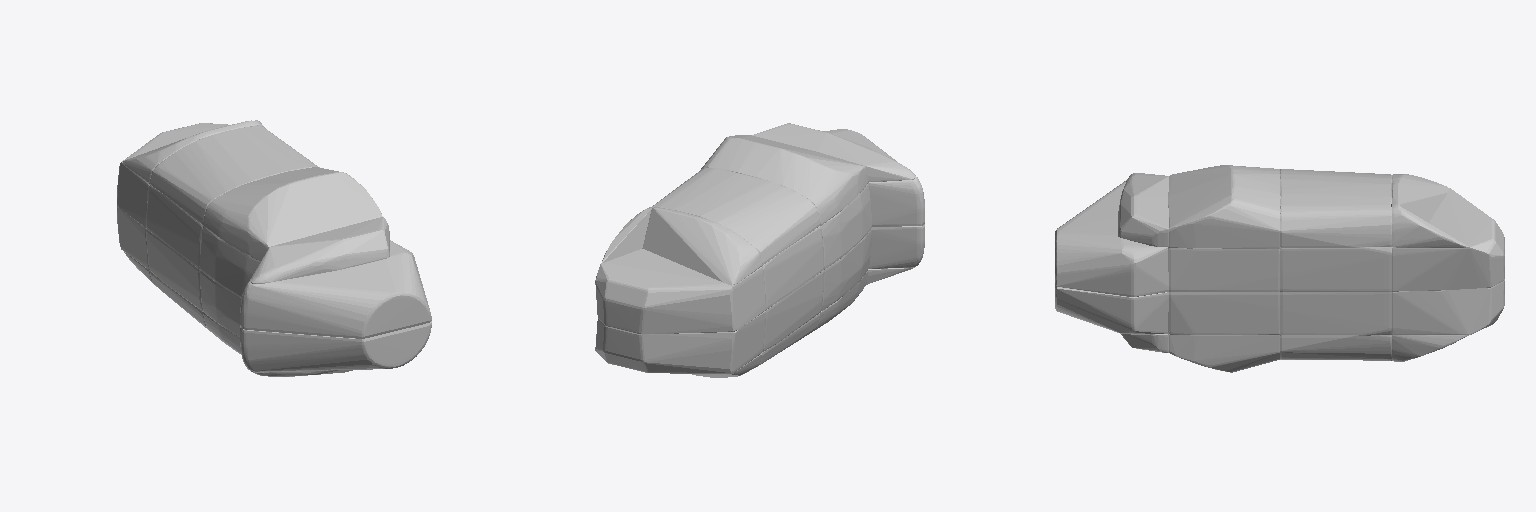
Rendered from torso_split.obj.
3 renders of one model, left to right at view 1: azimuth 30°, elevation 25°; view 2: azimuth 150°, elevation 25°; view 3: azimuth 270°, elevation 25°, orthographic.
Parts seen in each view (by area): view 1: geometry_12, geometry_16, geometry_15, geometry_8, geometry_17, geometry_10, geometry_11, geometry_9, geometry_6, geometry_7, geometry_14, geometry_5 (+2 smaller); view 2: geometry_9, geometry_15, geometry_16, geometry_5, geometry_14, geometry_17, geometry_12, geometry_10, geometry_6, geometry_11, geometry_8, geometry_7 (+3 smaller); view 3: geometry_16, geometry_15, geometry_12, geometry_9, geometry_10, geometry_11, geometry_6, geometry_5, geometry_7, geometry_8, geometry_3, geometry_17 (+5 smaller).
Part boxes in pixels (x1,y1,x2,y2): geometry_12: (240,240,431,338); geometry_16: (203,167,382,260); geometry_15: (150,125,319,224); geometry_8: (240,321,431,371); geometry_17: (250,217,389,283); geometry_10: (146,185,202,268); geometry_11: (200,226,260,297); geometry_9: (117,123,227,227); geometry_6: (146,229,202,311); geometry_7: (200,271,241,336); geometry_14: (123,120,256,183); geometry_5: (117,206,149,269); geometry_9: (595,249,765,333); geometry_15: (652,168,819,265); geometry_16: (701,135,867,225); geometry_5: (595,311,765,373); geometry_14: (642,207,761,285); geometry_17: (752,123,915,182); geometry_12: (824,129,924,226); geometry_10: (762,226,823,309); geometry_6: (763,270,823,351); geometry_11: (821,184,871,269); geometry_8: (869,224,924,268); geometry_7: (821,228,871,310); geometry_16: (1168,165,1280,248); geometry_15: (1280,169,1391,247); geometry_12: (1055,179,1168,296); geometry_9: (1392,188,1504,291); geometry_10: (1280,247,1391,291); geometry_11: (1168,248,1279,291); geometry_6: (1279,292,1391,335); geometry_5: (1392,279,1504,334); geometry_7: (1168,292,1279,334); geometry_8: (1055,283,1168,334); geometry_3: (1168,334,1279,372); geometry_17: (1118,173,1168,246).
Size of the model in its own units: 0.2492 by 0.2438 by 0.5674.